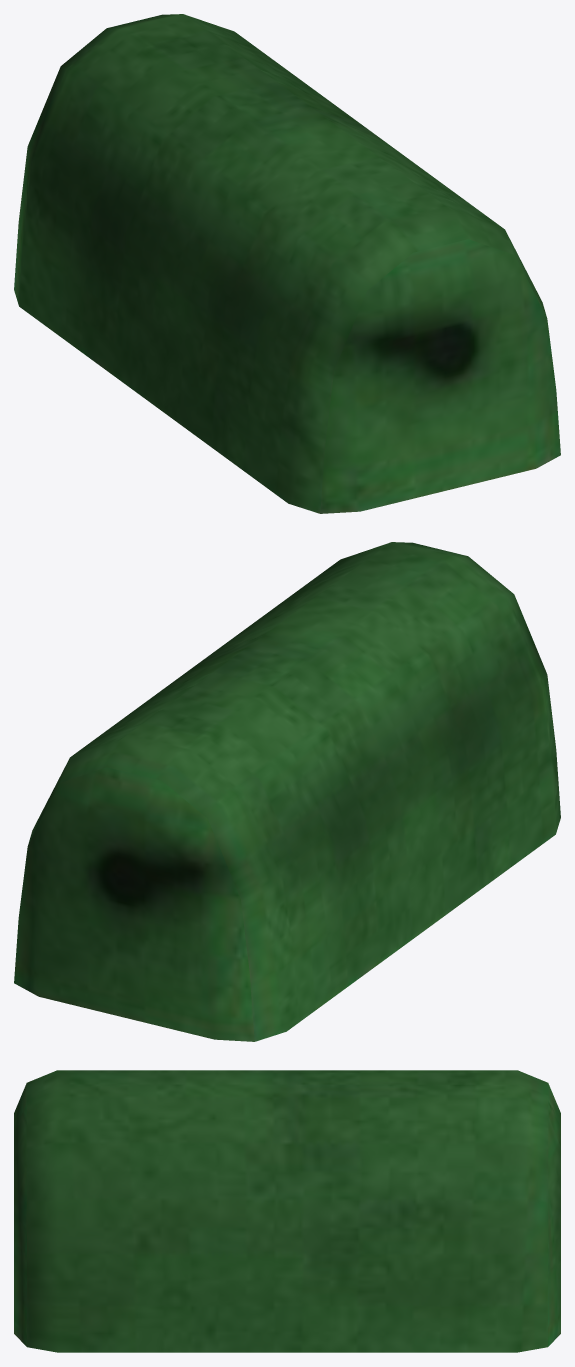
The model's file is head.obj.
3 views of the same model, one above another, from view 1: azimuth 30°, elevation 25°; view 2: azimuth 150°, elevation 25°; view 3: azimuth 270°, elevation 25° (orthographic). The views are drawn at different scales.
Parts seen in each view (by area): view 1: LampBulb; view 2: LampBulb; view 3: LampBulb.
Boxes of the visible parts, x1=… form: LampBulb: x1=14, y1=14, x2=560, y2=513; LampBulb: x1=14, y1=542, x2=560, y2=1041; LampBulb: x1=14, y1=1070, x2=560, y2=1352.
Size of the model in its own units: 0.0924 by 0.0832 by 0.1924.
